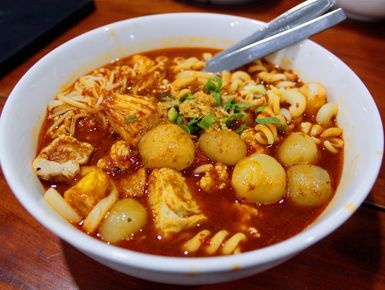seblak: (30, 49, 346, 258)
